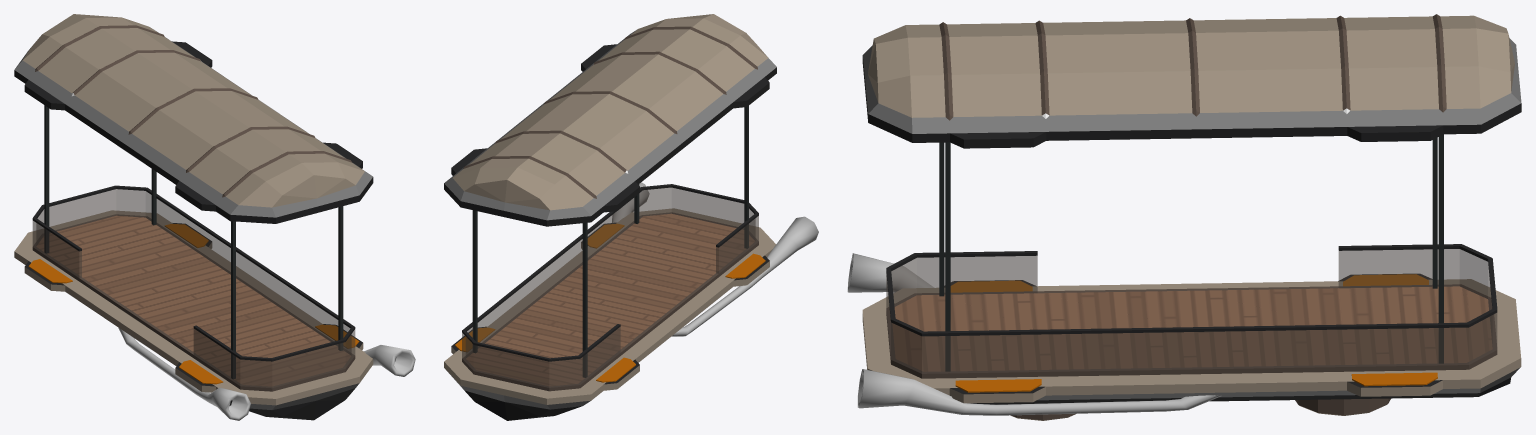
Rendered from train.glb.
3 views of the same model, side by side, from view 1: azimuth 30°, elevation 25°; view 2: azimuth 150°, elevation 25°; view 3: azimuth 270°, elevation 25° (orthographic). The views are drawn at different scales.
Parts seen in each view (by area): view 1: Train; view 2: Train; view 3: Train.
Boxes of the visible parts, left/top/right/bottom form: Train: left=14, top=14, right=415, bottom=420; Train: left=444, top=14, right=818, bottom=420; Train: left=847, top=14, right=1521, bottom=420.
Size of what is drawn, in the model's own units: 3.22 by 4.12 by 6.87.
5 materials, 5 textured.
